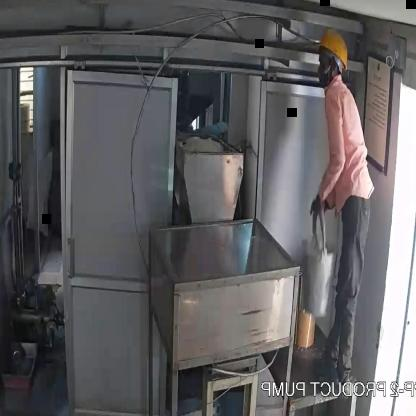helmet: (312, 32, 352, 85)
